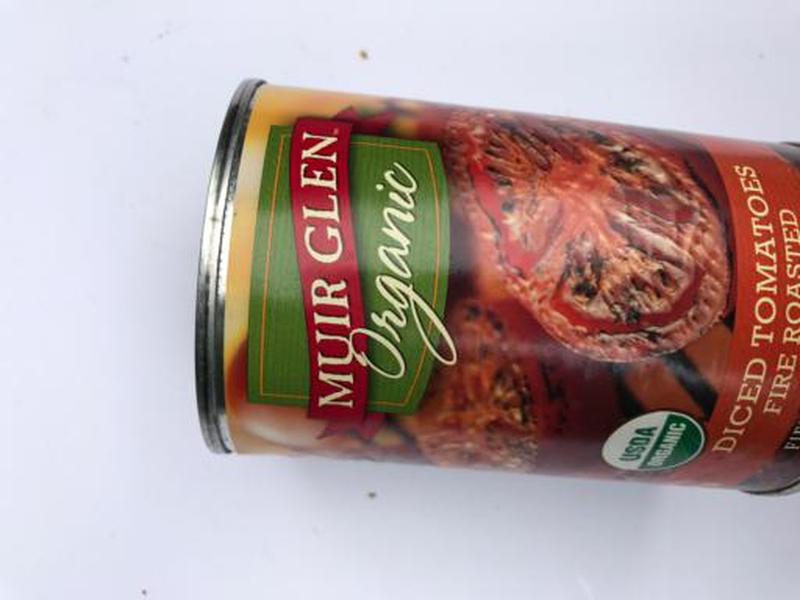can: (186, 77, 800, 502)
